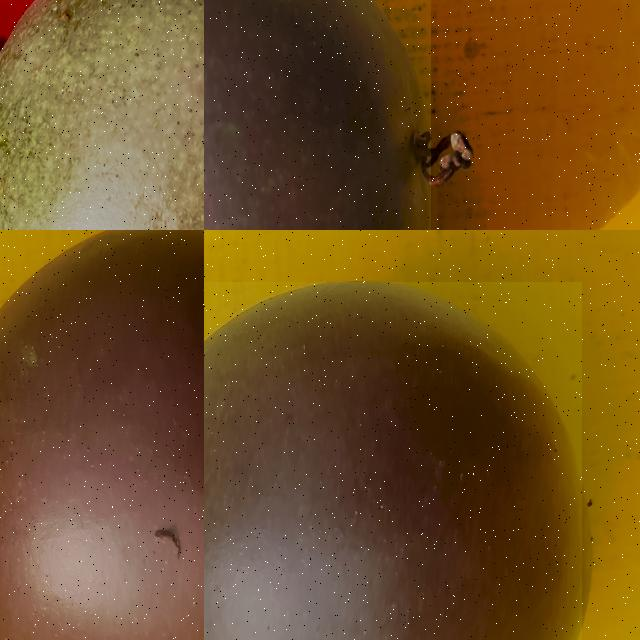Estado-2: (0, 0, 204, 230)
Estado-4: (204, 0, 430, 230)
Estado-5: (0, 230, 204, 640)
Estado-6: (204, 282, 581, 640)
